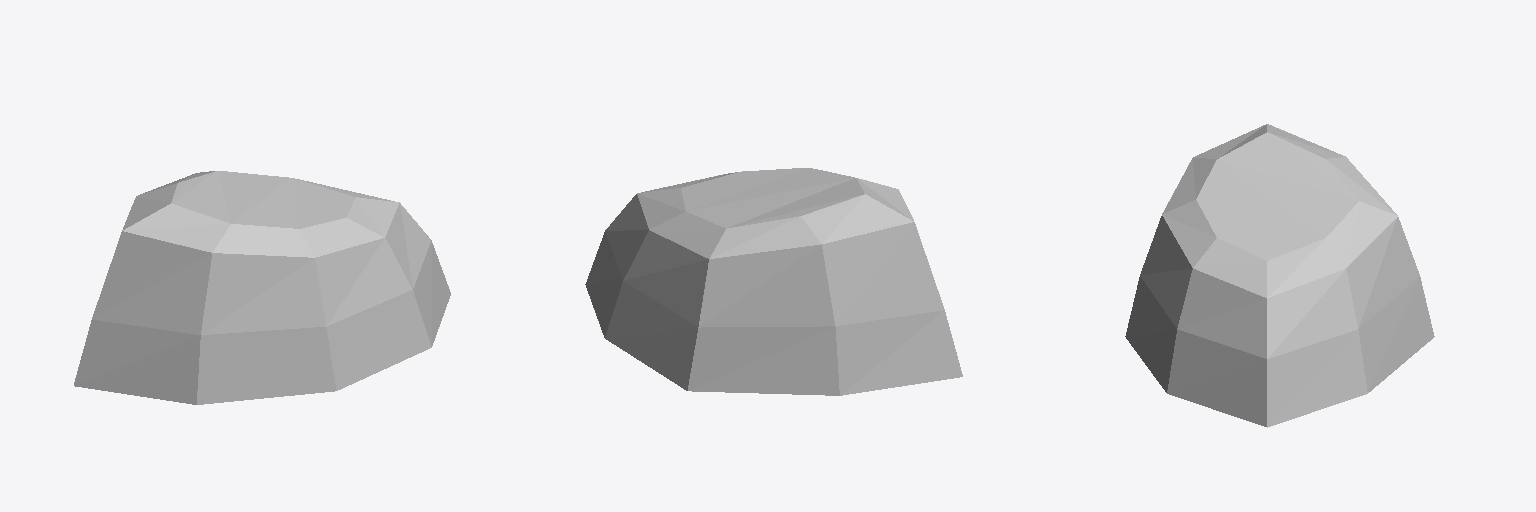
File: Rock2LargeProto.obj
3 renders of one model, left to right at view 1: azimuth 30°, elevation 25°; view 2: azimuth 150°, elevation 25°; view 3: azimuth 270°, elevation 25°, orthographic.
Parts seen in each view (by area): view 1: Rock2Med; view 2: Rock2Med; view 3: Rock2Med.
Boxes of the visible parts, x1,y1,x2,y2 form: Rock2Med: [74, 171, 450, 404]; Rock2Med: [585, 168, 962, 395]; Rock2Med: [1125, 124, 1434, 427].
Size of the model in its own units: 7.22 by 2.9 by 5.12.